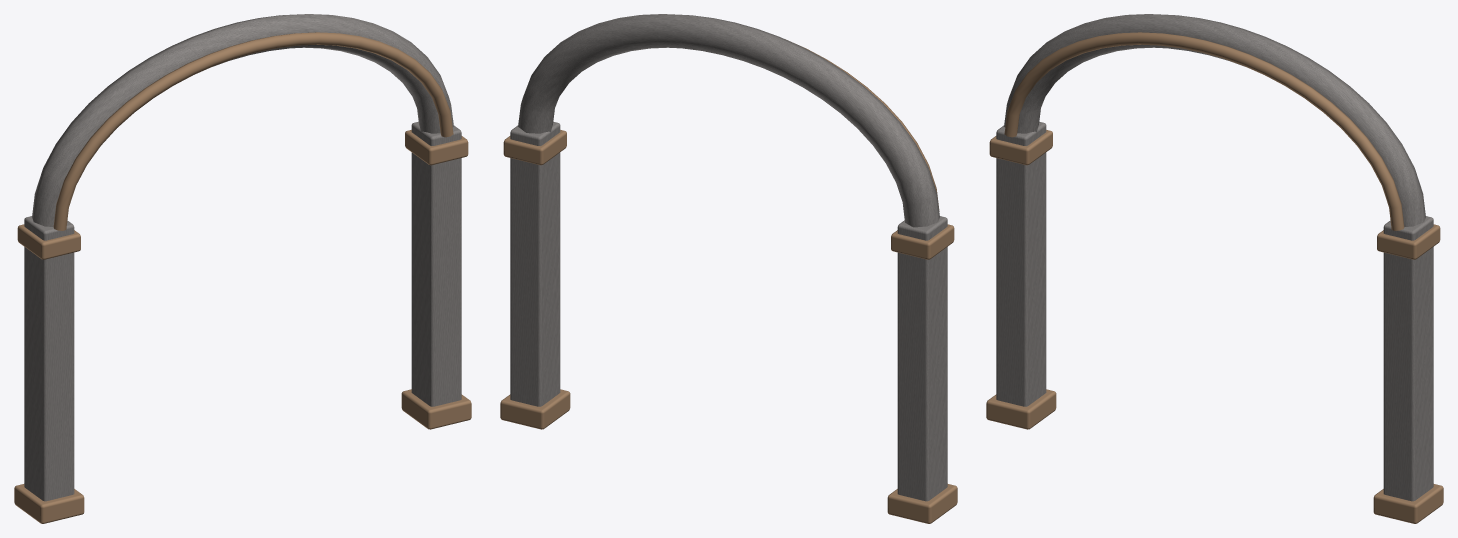
The model's file is arena-shooter-map-kit-wide-portal-61ba6dde__23071.glb.
3 views of the same model, side by side, from view 1: azimuth 30°, elevation 25°; view 2: azimuth 150°, elevation 25°; view 3: azimuth 330°, elevation 25° (orthographic).
Visible parts, largest first — view 1: wide-portal; view 2: wide-portal; view 3: wide-portal.
Part boxes in pixels (x1,y1,x2,y2): wide-portal: (14, 14, 471, 523); wide-portal: (500, 14, 957, 523); wide-portal: (986, 14, 1443, 523).
Size of the model in its own units: 4.12 by 4.02 by 0.4698.
2 materials, 1 textured.
